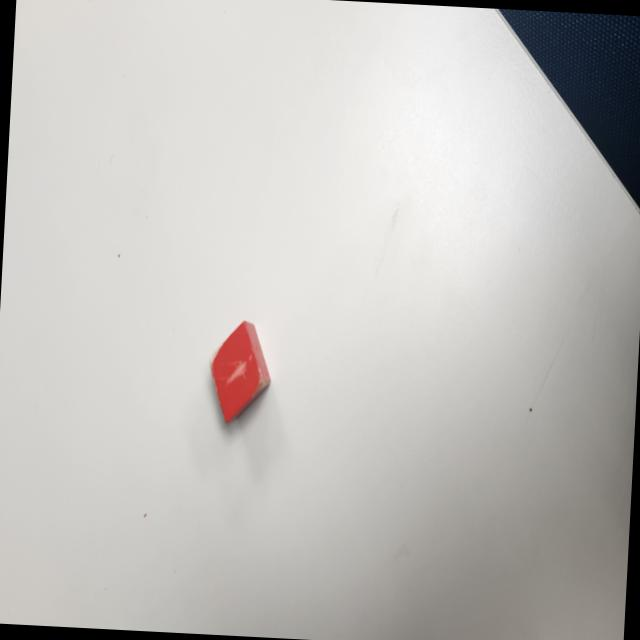broken: (206, 319, 274, 427)
